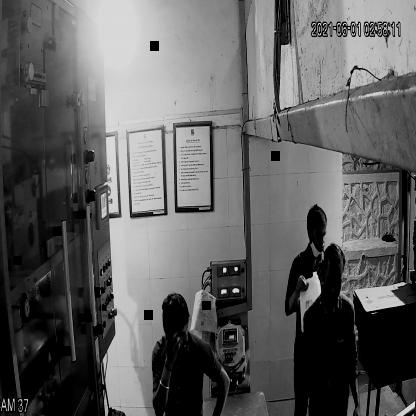no_goggles: (319, 268, 347, 294)
